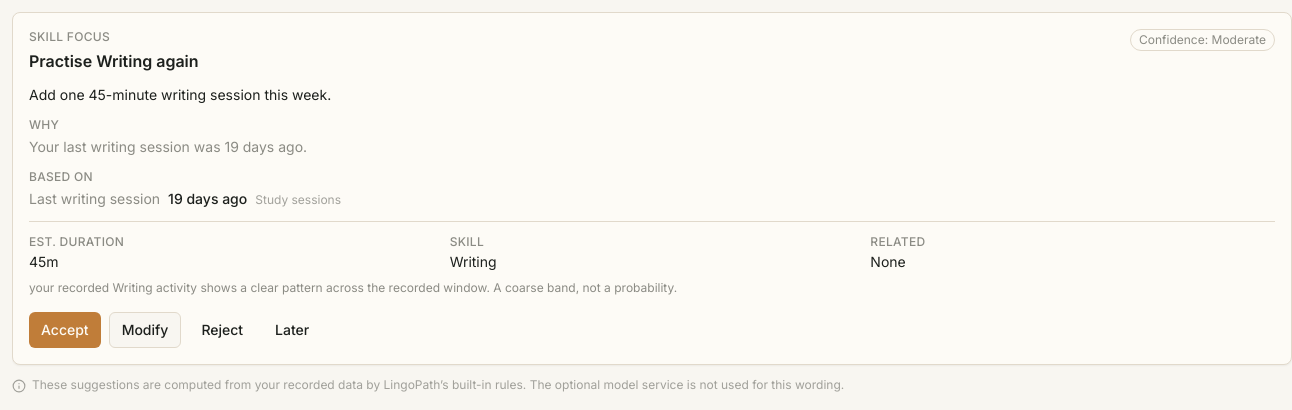
Test: suggestion panel › moves a postponed suggestion out of the primary view
The width and height of the screenshot is (1292, 410).
What coordinates should you click on to do the following:
click the button with aria-label "Later: Practise Writing again"
I would click on:
 (292, 330)
Its box is [263,312,321,348].
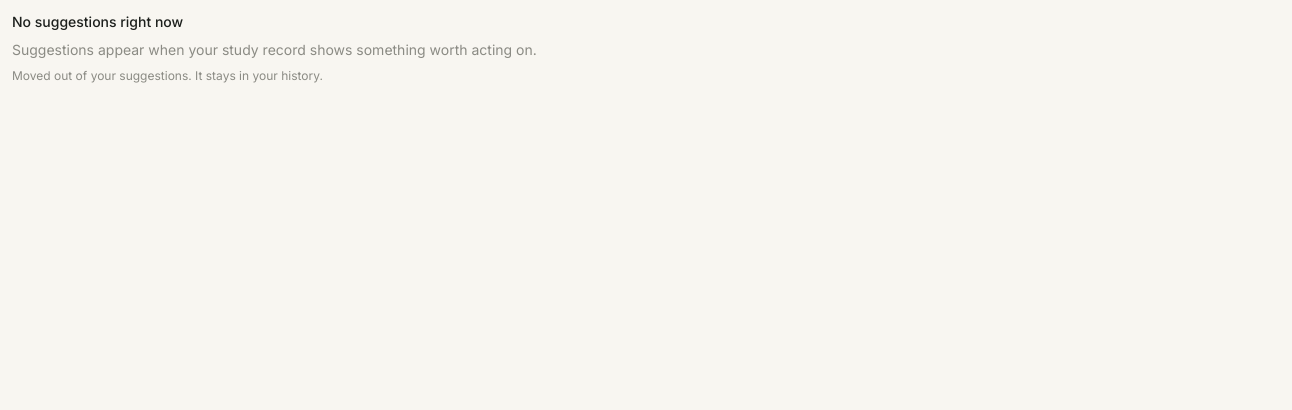
Now the heading "Practise Writing again" is gone
Now the text "Moved out of your suggestions. It stays in your history." is shown, box [12,68,323,83]
Now the text "No suggestions right now" is shown, box [12,13,183,30]
